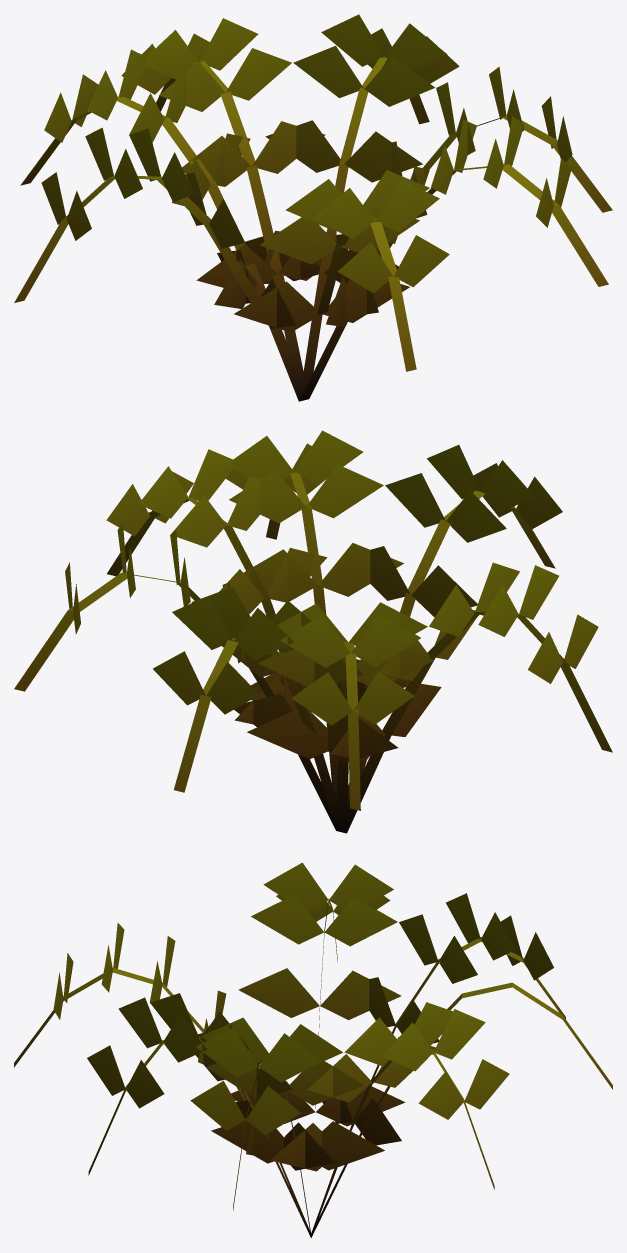
File: fern.glb
3 renders of one model, top to bottom at view 1: azimuth 30°, elevation 25°; view 2: azimuth 150°, elevation 25°; view 3: azimuth 270°, elevation 25°, orthographic. The views are drawn at different scales.
Parts seen in each view (by area): view 1: leaves_fern.043, leaves_fern.041, leaves_fern.035, leaves_fern.034, leaves_fern.033, leaves_fern.005, leaves_fern.047, leaves_fern.046, leaves_fern.036, leaves_fern.032, leaves_fern.007, leaves_fern.037 (+52 smaller); view 2: leaves_fern.051, leaves_fern.015, leaves_fern.056, leaves_fern.057, leaves_fern.017, leaves_fern.013, leaves_fern.059, leaves_fern.058, leaves_fern.007, leaves_fern.045, leaves_fern.044, leaves_fern.006 (+48 smaller); view 3: leaves_fern.022, leaves_fern.024, leaves_fern.025, leaves_fern.023, leaves_fern.060, leaves_fern.066, leaves_fern.067, leaves_fern.026, leaves_fern.062, leaves_fern.027, leaves_fern.061, leaves_fern.068 (+29 smaller).
Part boxes in pixels (x1=…): leaves_fern.043: x1=260, y1=217, x2=338, y2=264; leaves_fern.041: x1=234, y1=281, x2=321, y2=332; leaves_fern.035: x1=364, y1=56, x2=434, y2=106; leaves_fern.034: x1=293, y1=45, x2=363, y2=97; leaves_fern.033: x1=344, y1=131, x2=422, y2=182; leaves_fern.005: x1=226, y1=48, x2=291, y2=100; leaves_fern.047: x1=311, y1=188, x2=375, y2=238; leaves_fern.046: x1=376, y1=180, x2=439, y2=231; leaves_fern.036: x1=321, y1=14, x2=383, y2=66; leaves_fern.032: x1=265, y1=120, x2=340, y2=172; leaves_fern.007: x1=199, y1=18, x2=258, y2=70; leaves_fern.037: x1=384, y1=23, x2=447, y2=70; leaves_fern.051: x1=247, y1=709, x2=327, y2=759; leaves_fern.015: x1=306, y1=464, x2=383, y2=518; leaves_fern.056: x1=351, y1=613, x2=420, y2=666; leaves_fern.057: x1=280, y1=614, x2=350, y2=667; leaves_fern.017: x1=295, y1=430, x2=363, y2=484; leaves_fern.013: x1=320, y1=543, x2=403, y2=596; leaves_fern.059: x1=291, y1=672, x2=352, y2=725; leaves_fern.058: x1=353, y1=671, x2=414, y2=724; leaves_fern.007: x1=172, y1=596, x2=232, y2=649; leaves_fern.045: x1=446, y1=490, x2=506, y2=542; leaves_fern.044: x1=385, y1=473, x2=445, y2=527; leaves_fern.006: x1=233, y1=608, x2=293, y2=660; leaves_fern.022: x1=238, y1=968, x2=319, y2=1017; leaves_fern.024: x1=251, y1=894, x2=324, y2=944; leaves_fern.025: x1=324, y1=897, x2=397, y2=946; leaves_fern.023: x1=320, y1=970, x2=401, y2=1020; leaves_fern.060: x1=322, y1=1121, x2=384, y2=1170; leaves_fern.066: x1=259, y1=1033, x2=321, y2=1082; leaves_fern.067: x1=196, y1=1027, x2=258, y2=1077; leaves_fern.026: x1=263, y1=862, x2=328, y2=910; leaves_fern.062: x1=288, y1=1061, x2=363, y2=1105; leaves_fern.027: x1=329, y1=864, x2=393, y2=908; leaves_fern.061: x1=211, y1=1120, x2=283, y2=1163; leaves_fern.068: x1=246, y1=1086, x2=300, y2=1135.
Size of the model in its own units: 1.04 by 0.5474 by 1.03.
